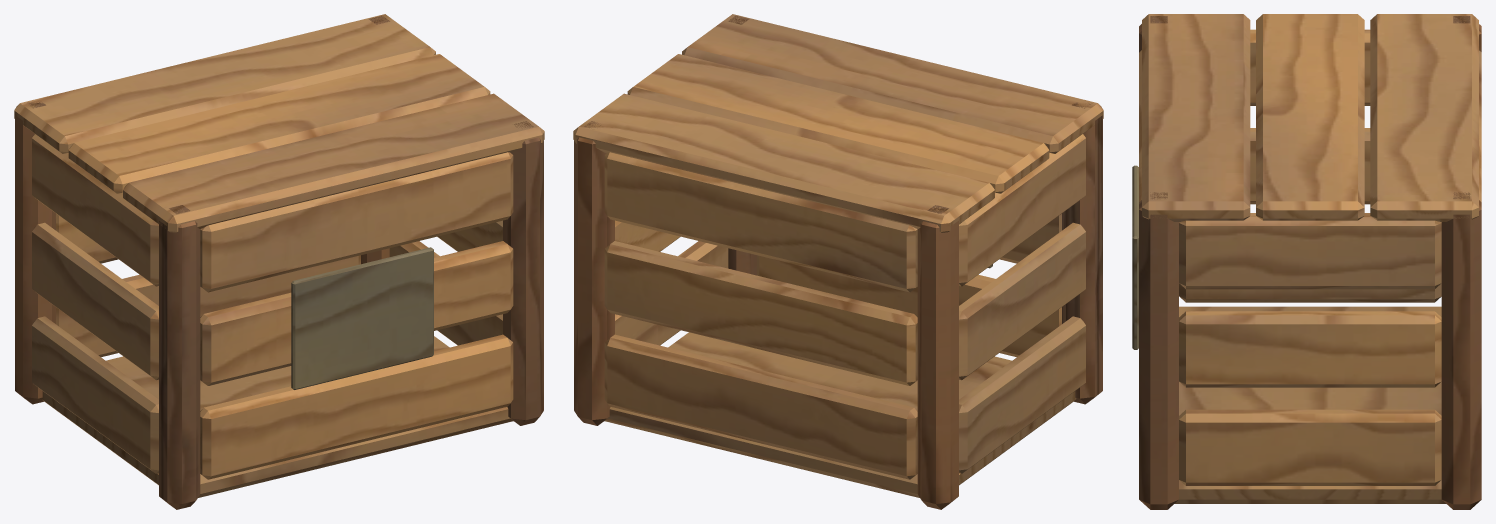
Rendered from kargo_kasasi.glb.
3 views of the same model, side by side, from view 1: azimuth 30°, elevation 25°; view 2: azimuth 150°, elevation 25°; view 3: azimuth 270°, elevation 25° (orthographic). The views are drawn at different scales.
Parts seen in each view (by area): view 1: kargo_kasasi; view 2: kargo_kasasi; view 3: kargo_kasasi.
Part boxes in pixels (x1,y1,x2,y2): kargo_kasasi: [14, 14, 544, 509]; kargo_kasasi: [573, 14, 1103, 509]; kargo_kasasi: [1132, 14, 1481, 509].
Size of the model in its own units: 0.8 by 0.6 by 0.612.
1 material, 1 textured.
